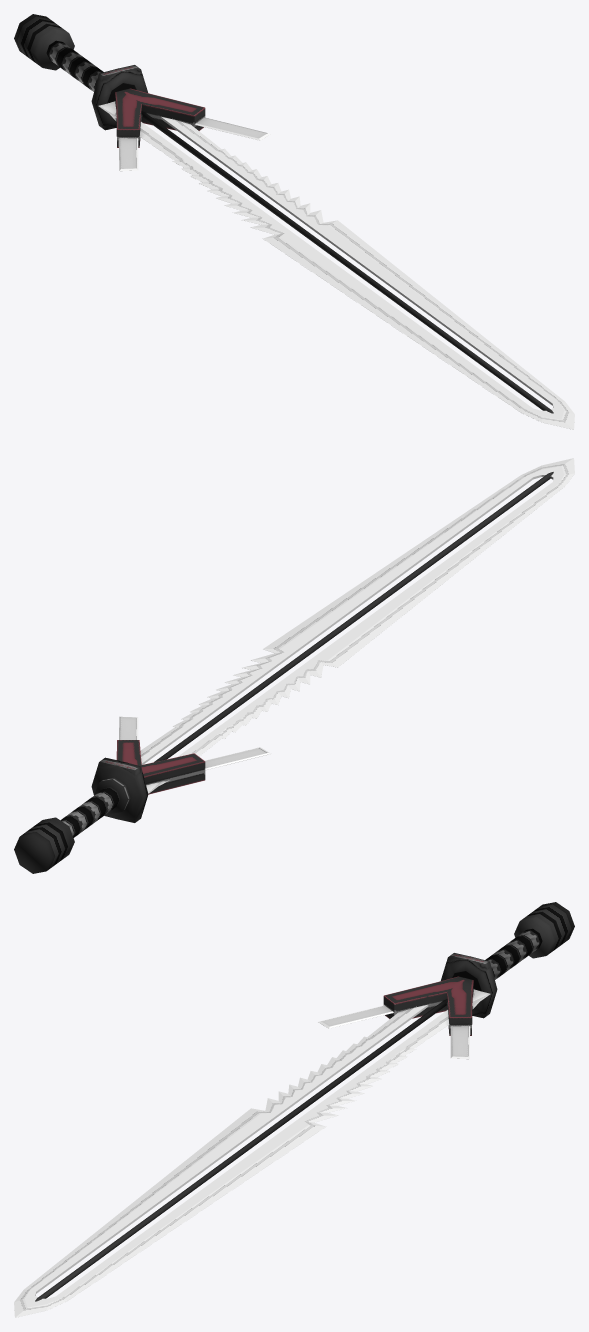
File: SwordV_long.fbx
3 renders of one model, top to bottom at view 1: azimuth 30°, elevation 25°; view 2: azimuth 150°, elevation 25°; view 3: azimuth 330°, elevation 25°, orthographic.
Visible parts, largest first — view 1: vSword_long; view 2: vSword_long; view 3: vSword_long.
Boxes of the visible parts, <box> form: vSword_long: <box>14,14,574,429</box>; vSword_long: <box>14,458,574,873</box>; vSword_long: <box>14,902,574,1317</box>.
Bounding box in the file's own units: 19.57 × 6.55 × 121.
2 materials, 2 textured.
